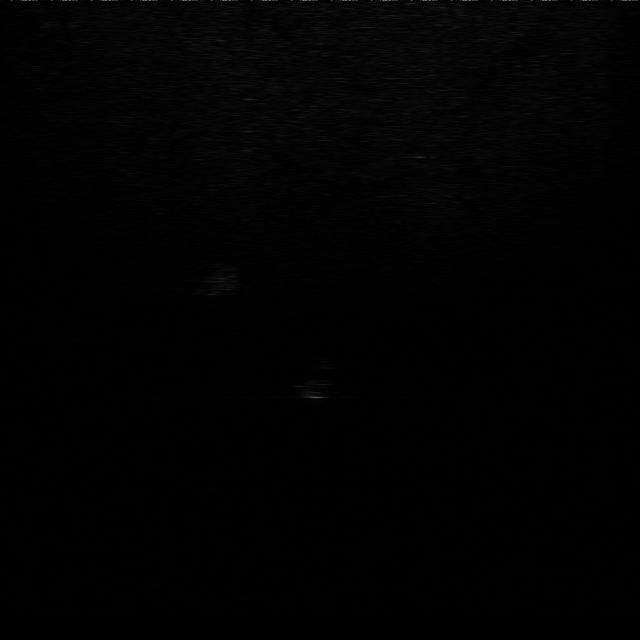circle cage: (196, 258, 242, 300)
tyre: (282, 353, 348, 404)
